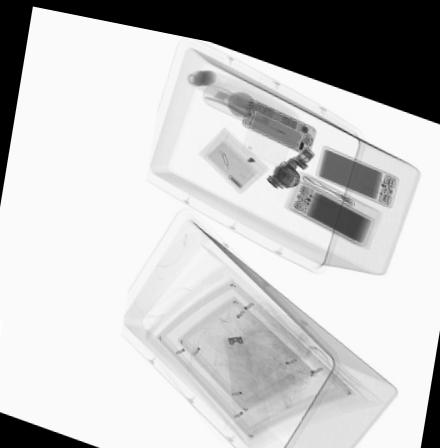Powerbank: (284, 164, 378, 235)
